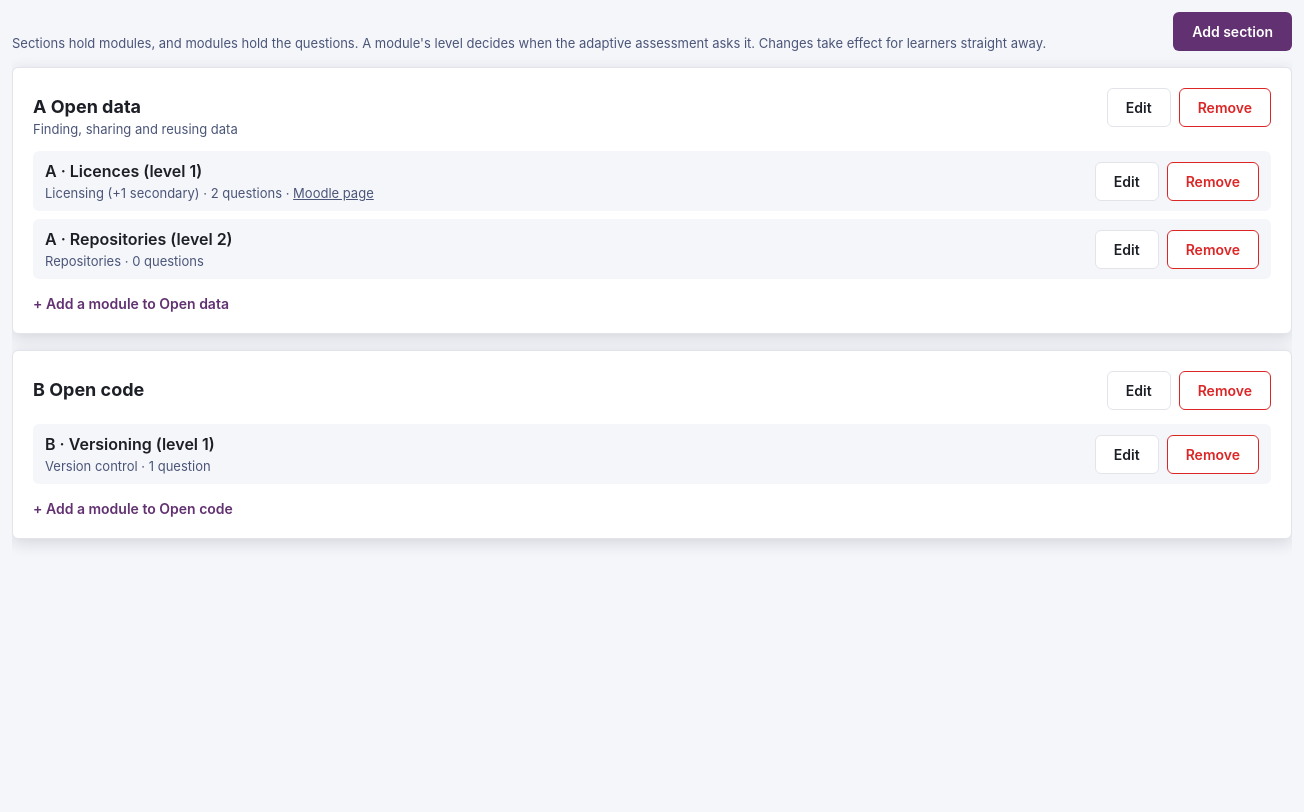
Test: StructurePanel: sections › cancels an edit
This screenshot has width=1304, height=812.
Click the button with aria-label "Edit Open data" at (1139, 108), box left=1107, top=88, right=1171, bottom=127
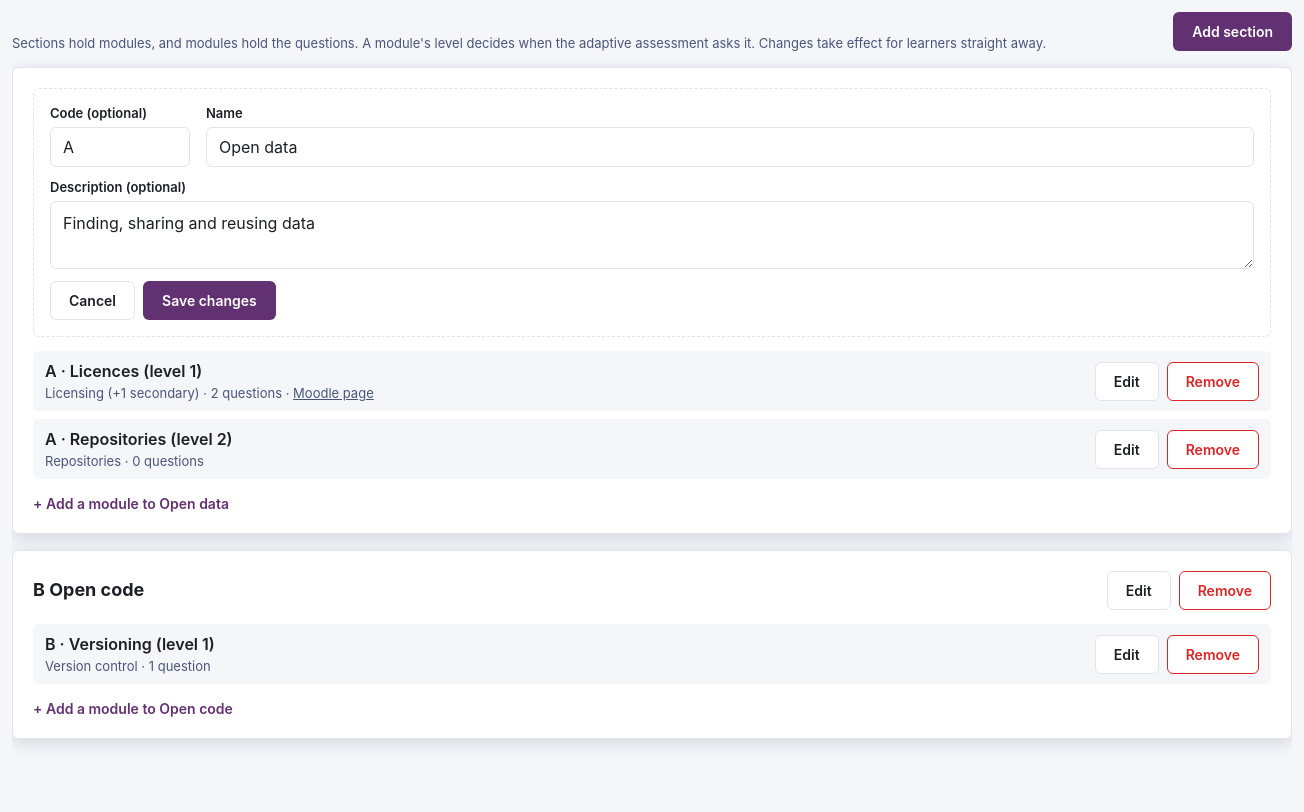
Click the button "Cancel" at (92, 300), box left=50, top=281, right=135, bottom=320
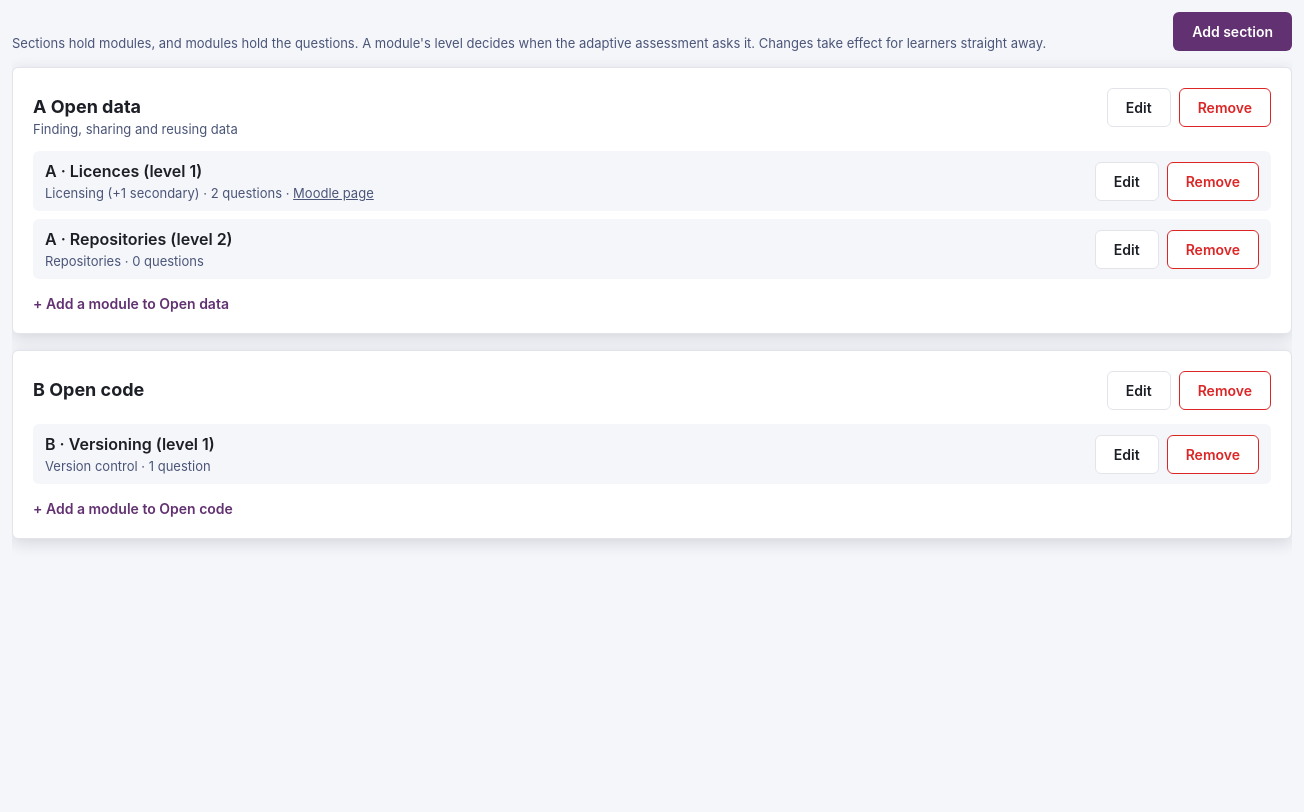
Check: the form is gone
